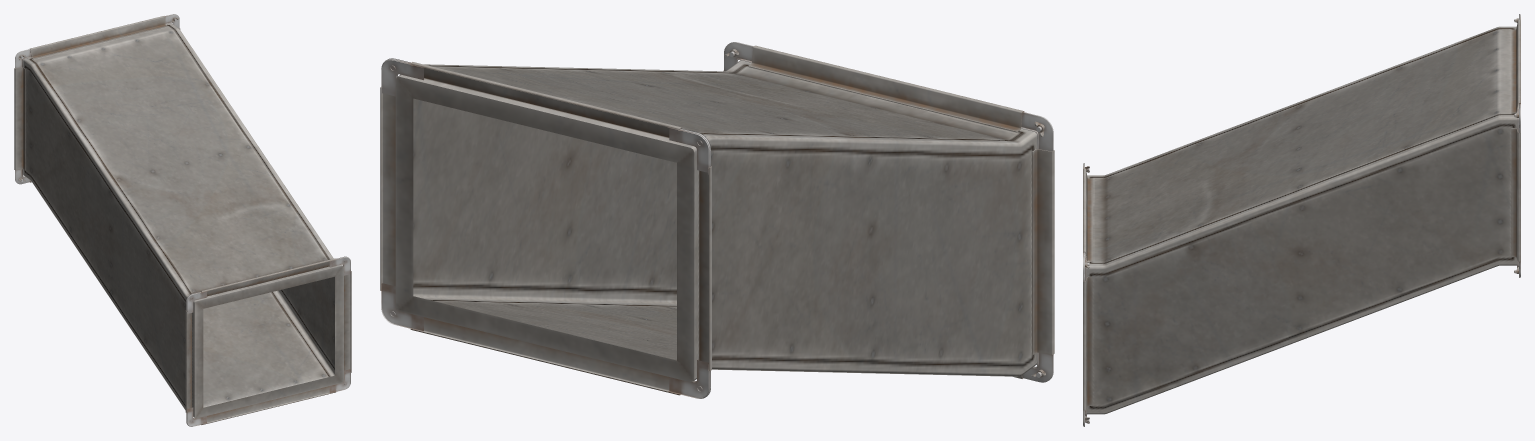
Rendered from transition_double_01.glb.
3 renders of one model, left to right at view 1: azimuth 30°, elevation 25°; view 2: azimuth 150°, elevation 25°; view 3: azimuth 270°, elevation 25°, orthographic. The views are drawn at different scales.
Visible parts, largest first — view 1: modular_airduct_rectangular_01_transition_double_01.001; view 2: modular_airduct_rectangular_01_transition_double_01.001; view 3: modular_airduct_rectangular_01_transition_double_01.001.
Boxes of the visible parts, <box> form: modular_airduct_rectangular_01_transition_double_01.001: <box>14,14,351,426</box>; modular_airduct_rectangular_01_transition_double_01.001: <box>380,42,1054,398</box>; modular_airduct_rectangular_01_transition_double_01.001: <box>1083,14,1520,426</box>.
Bounding box in the file's own units: 0.6634 × 0.9626 × 1.2.
Materials: 2 (2 with a texture image).
